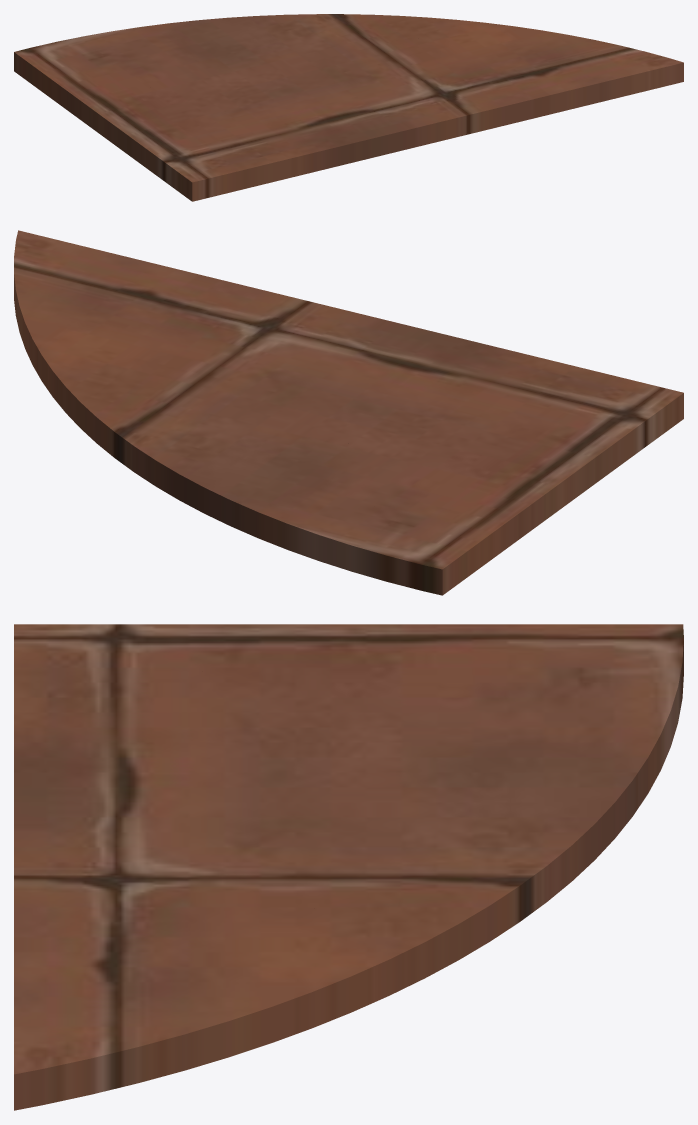
Rendered from Tile_Break2.FBX.
3 views of the same model, one above another, from view 1: azimuth 30°, elevation 25°; view 2: azimuth 150°, elevation 25°; view 3: azimuth 270°, elevation 25° (orthographic). The views are drawn at different scales.
Visible parts, largest first — view 1: Piso79, Piso81, Piso82, Piso76, Piso74, Piso69, Piso68, Piso71, Piso77, Piso72, Piso70, Piso75 (+2 smaller); view 2: Piso81, Piso79, Piso76, Piso82, Piso74, Piso69, Piso77, Piso68, Piso71, Piso72, Piso70, Piso75 (+2 smaller); view 3: Piso79, Piso81, Piso76, Piso82, Piso74, Piso69, Piso68, Piso77, Piso71, Piso72, Piso75, Piso70 (+2 smaller).
Boxes of the visible parts, x1=… form: Piso79: x1=403, y1=22, x2=683, y2=147; Piso81: x1=14, y1=26, x2=200, y2=201; Piso82: x1=135, y1=70, x2=413, y2=200; Piso76: x1=145, y1=75, x2=402, y2=129; Piso74: x1=368, y1=24, x2=491, y2=119; Piso69: x1=243, y1=14, x2=375, y2=62; Piso68: x1=285, y1=37, x2=423, y2=93; Piso71: x1=212, y1=66, x2=366, y2=100; Piso77: x1=135, y1=17, x2=235, y2=70; Piso72: x1=198, y1=16, x2=279, y2=66; Piso70: x1=280, y1=14, x2=417, y2=66; Piso75: x1=380, y1=15, x2=476, y2=37; Piso81: x1=279, y1=391, x2=683, y2=595; Piso79: x1=14, y1=230, x2=384, y2=381; Piso76: x1=320, y1=331, x2=488, y2=485; Piso82: x1=368, y1=320, x2=675, y2=496; Piso74: x1=53, y1=317, x2=366, y2=379; Piso69: x1=95, y1=407, x2=290, y2=505; Piso77: x1=195, y1=466, x2=408, y2=546; Piso68: x1=129, y1=357, x2=319, y2=425; Piso71: x1=294, y1=366, x2=395, y2=455; Piso72: x1=189, y1=431, x2=354, y2=508; Piso70: x1=92, y1=379, x2=300, y2=441; Piso75: x1=46, y1=358, x2=128, y2=439; Piso79: x1=14, y1=826, x2=354, y2=1110; Piso81: x1=14, y1=624, x2=683, y2=776; Piso76: x1=57, y1=686, x2=453, y2=829; Piso82: x1=14, y1=629, x2=498, y2=827; Piso74: x1=57, y1=827, x2=360, y2=967; Piso69: x1=375, y1=797, x2=603, y2=941; Piso68: x1=190, y1=796, x2=373, y2=914; Piso77: x1=449, y1=693, x2=657, y2=845; Piso71: x1=190, y1=738, x2=408, y2=827; Piso72: x1=395, y1=740, x2=607, y2=850; Piso75: x1=355, y1=910, x2=482, y2=1004; Piso70: x1=360, y1=795, x2=488, y2=945.
Size of the model in its own units: 133 by 5 by 83.74.
1 material, 1 textured.
